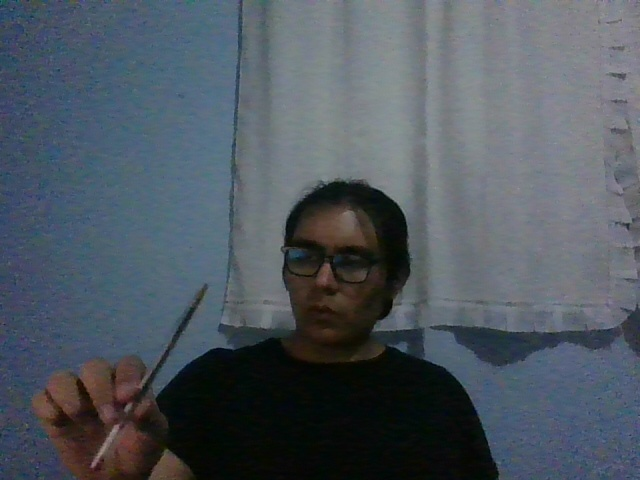pluma: (87, 282, 209, 474)
